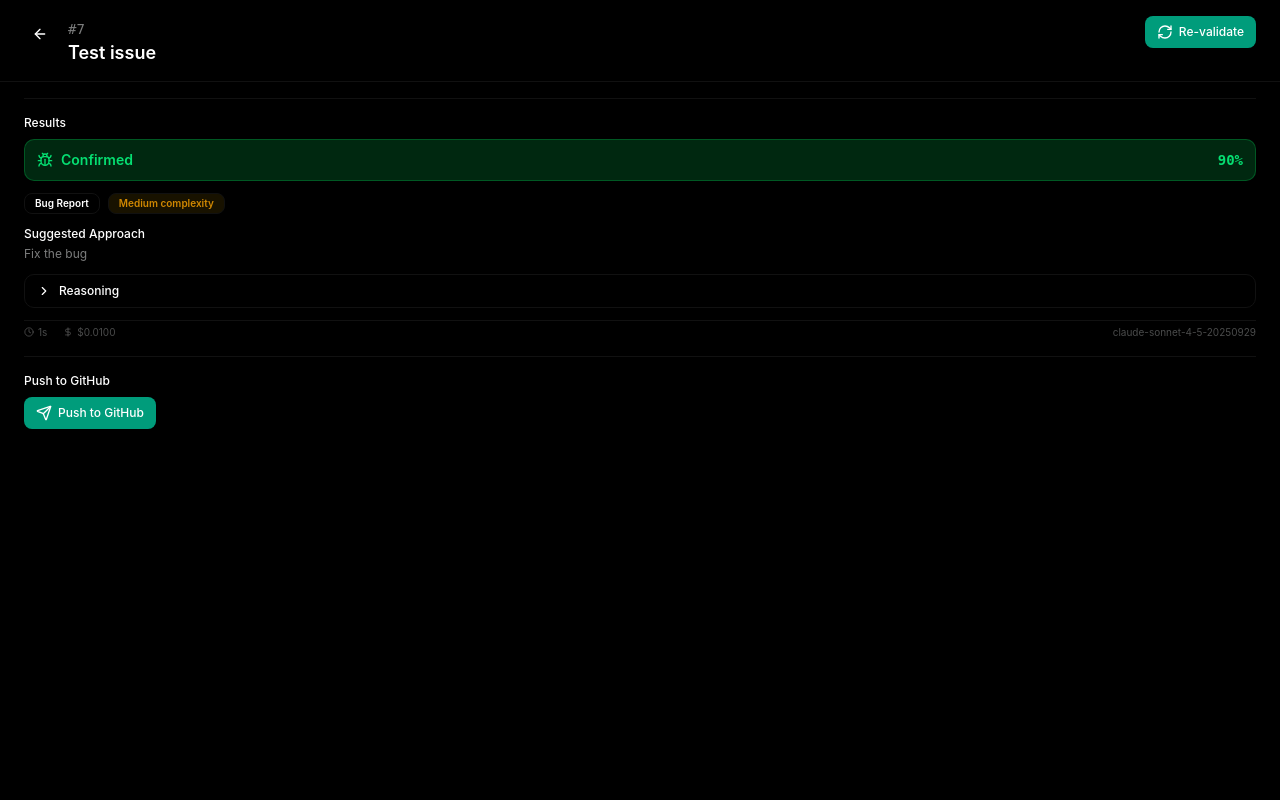
Test: IssueDetailView › re-validate confirmation dialog › should show confirmation dialog when clicking Re-validate with existing results
Click the button "Re-validate" at [1200, 32], box x1=1145 y1=16 x2=1256 y2=48
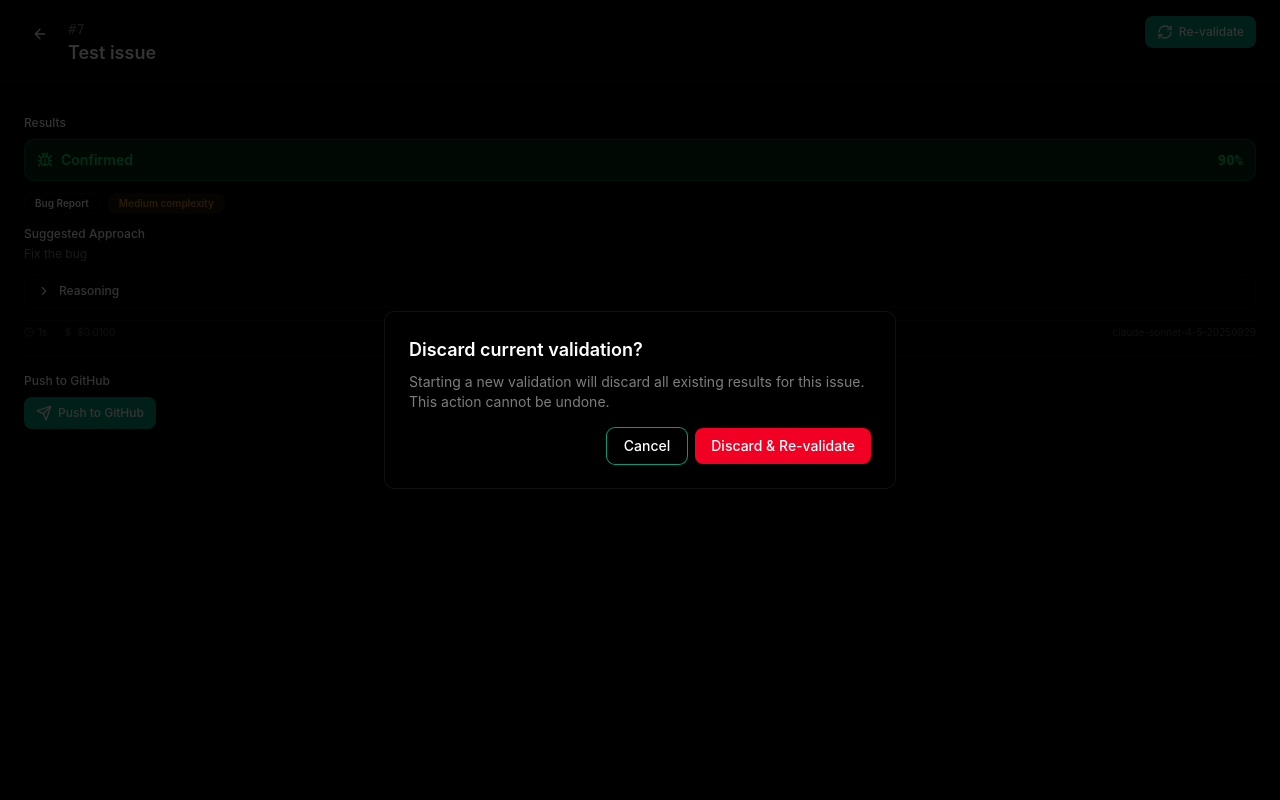
Expected: the heading "Discard current validation?" is shown, x1=409 y1=339 x2=643 y2=360
